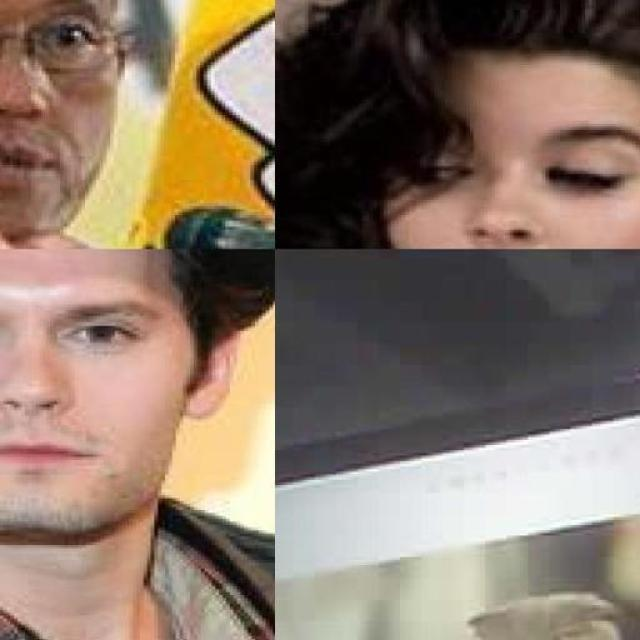bareface: (4, 259, 192, 599)
